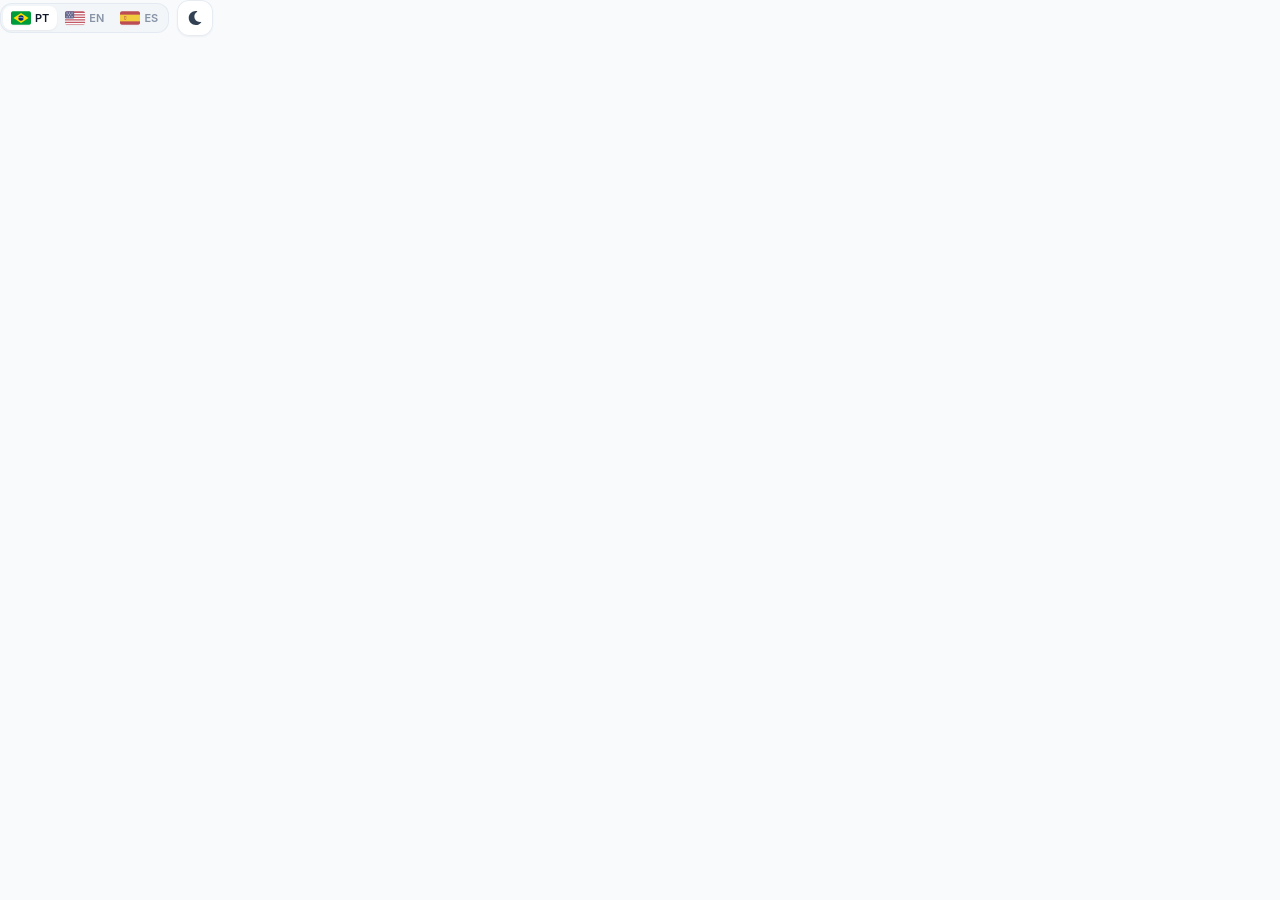
Test case: ThemeAndLangControls › toggles smooth dark mode via moon/sun button and persists pm_theme
Click the button with test id "theme-toggle-btn" at point(195, 18), box [177, 0, 213, 36]
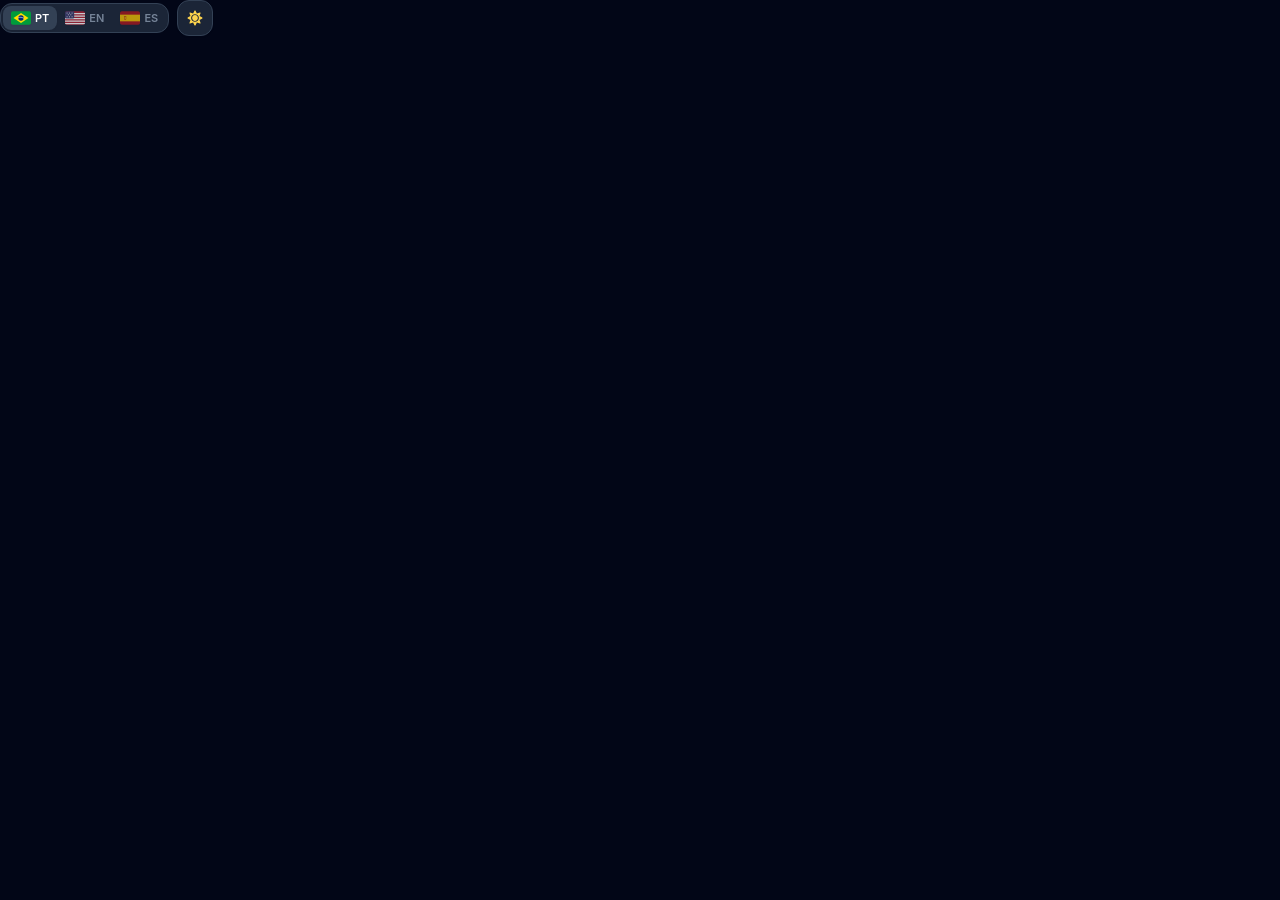
expect the button with test id "theme-toggle-btn" is pressed: met
Click the button with test id "theme-toggle-btn" at point(195, 18), box [177, 0, 213, 36]
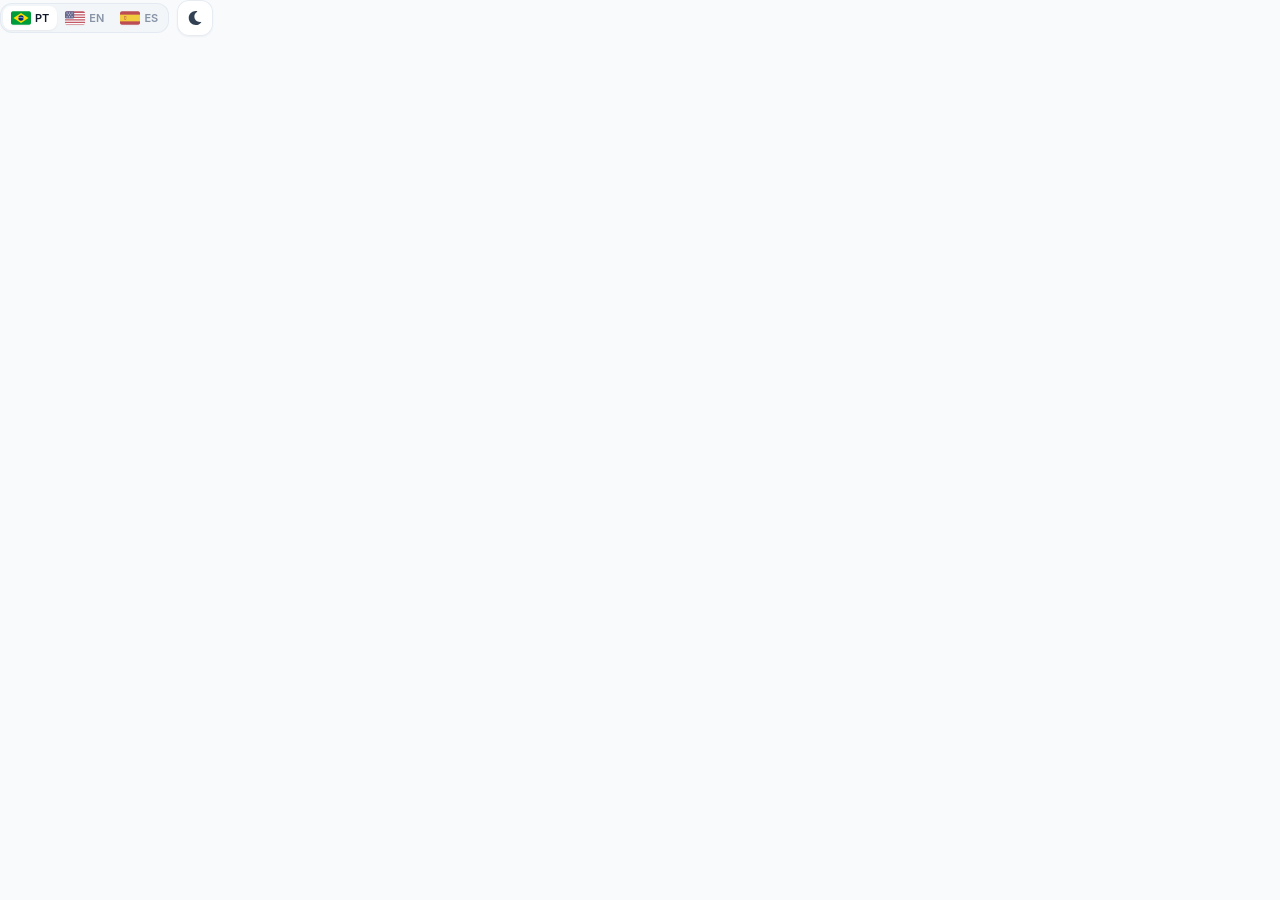
expect the button with test id "theme-toggle-btn" is not pressed: met, box [177, 0, 213, 36]
